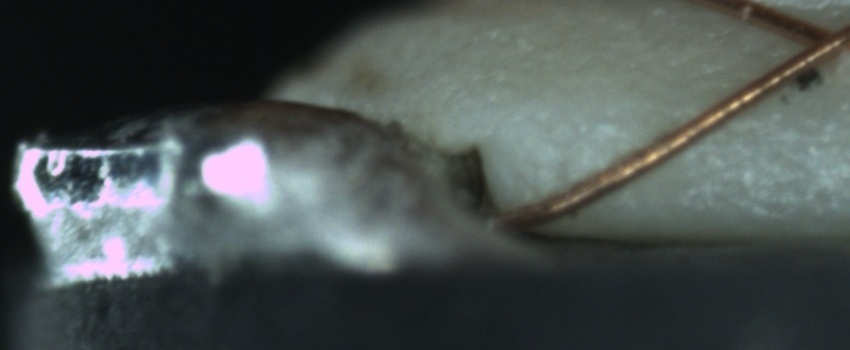CL: (775, 8, 849, 77)
